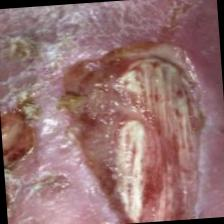wound-ulser: (52, 32, 224, 224), (0, 104, 42, 222)
